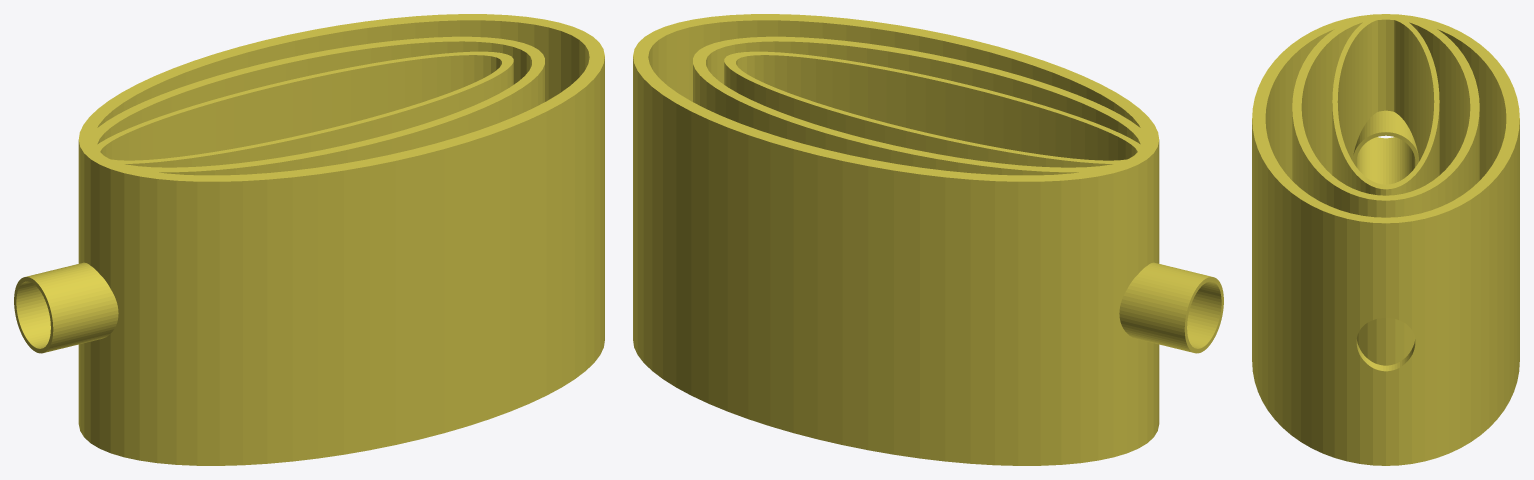
Rendered from homolog1-base-Câmara descontaminação do ar (oval) - COVID-19.glb.
3 renders of one model, left to right at view 1: azimuth 30°, elevation 25°; view 2: azimuth 150°, elevation 25°; view 3: azimuth 270°, elevation 25°, orthographic. The views are drawn at different scales.
Visible parts, largest first — view 1: Mesh_Mesh_head_geo.001_lambert2SG.001; view 2: Mesh_Mesh_head_geo.001_lambert2SG.001; view 3: Mesh_Mesh_head_geo.001_lambert2SG.001.
Part boxes in pixels (x1,y1,x2,y2): Mesh_Mesh_head_geo.001_lambert2SG.001: (14, 14, 604, 465); Mesh_Mesh_head_geo.001_lambert2SG.001: (633, 14, 1223, 465); Mesh_Mesh_head_geo.001_lambert2SG.001: (1252, 14, 1519, 465).
Size of the model in its own units: 206 by 100 by 100.
